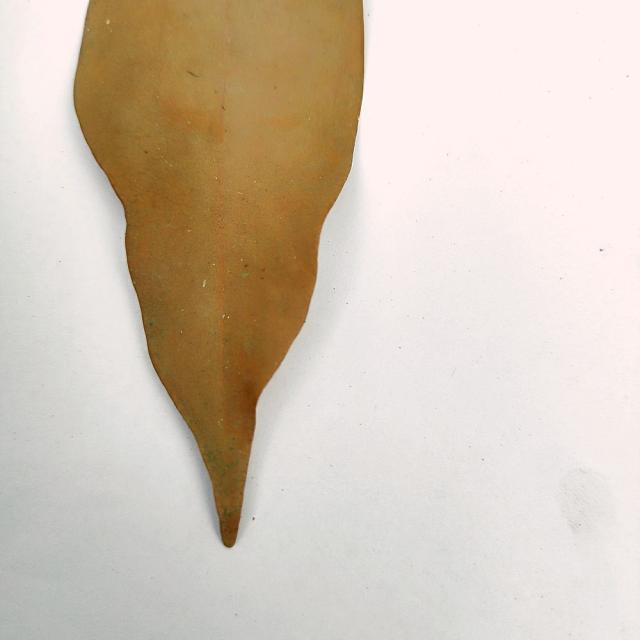Dry_Leaf-Lychee: (72, 0, 365, 548)
